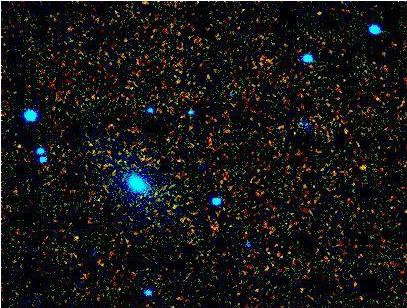star: (302, 0, 332, 30)
